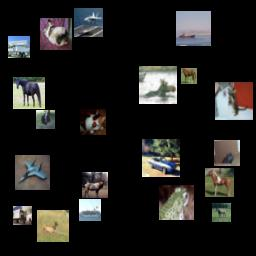airplane: (15, 155, 50, 190), (74, 8, 103, 37)
automobile: (142, 139, 180, 177)
bird: (36, 110, 55, 129)
cat: (215, 82, 253, 120), (40, 18, 72, 50), (214, 140, 240, 166), (80, 109, 106, 135)
deer: (139, 66, 177, 104), (37, 210, 69, 242), (82, 172, 108, 198)
frog: (159, 185, 194, 220)
ship: (176, 11, 211, 46), (79, 199, 101, 221)
truck: (8, 36, 30, 58), (13, 206, 32, 225)
